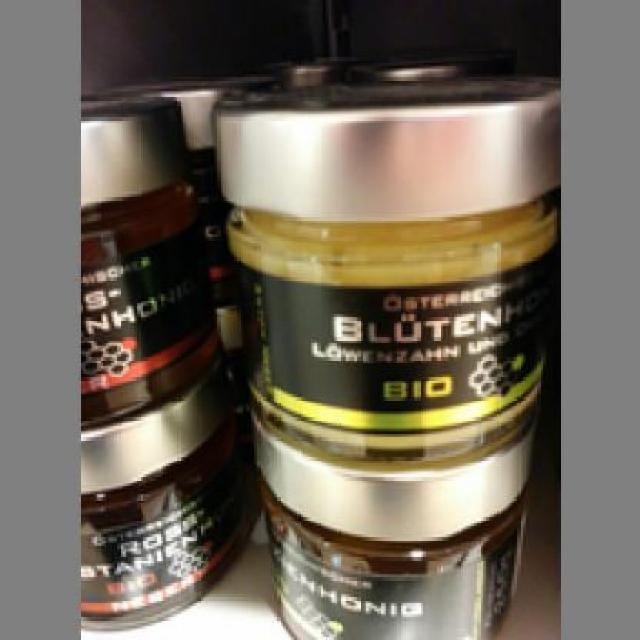Honey: (200, 74, 554, 460), (240, 402, 543, 638)
